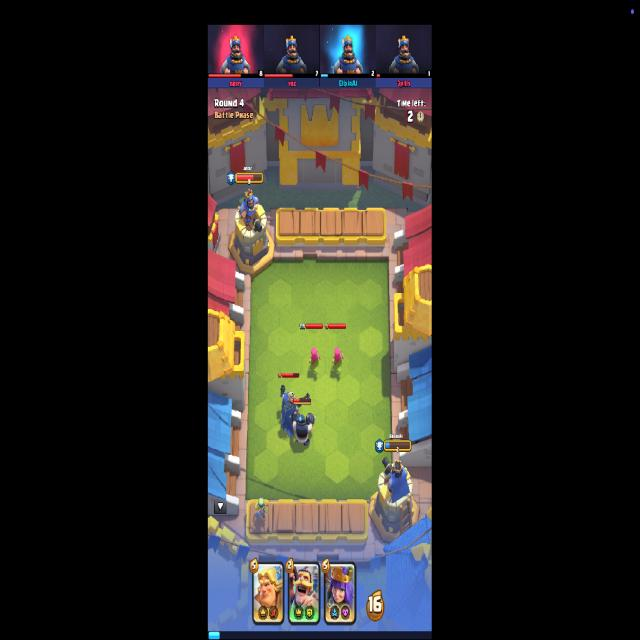archer: (332, 348, 344, 373), (309, 347, 320, 371)
card_archer_queen: (324, 561, 357, 625)
card_golden_knight: (252, 561, 285, 625)
card_knight: (288, 560, 320, 626)
mega_knight: (290, 409, 316, 449)
skeleton_king: (280, 386, 310, 432)
spear_goblin: (254, 498, 268, 522)
